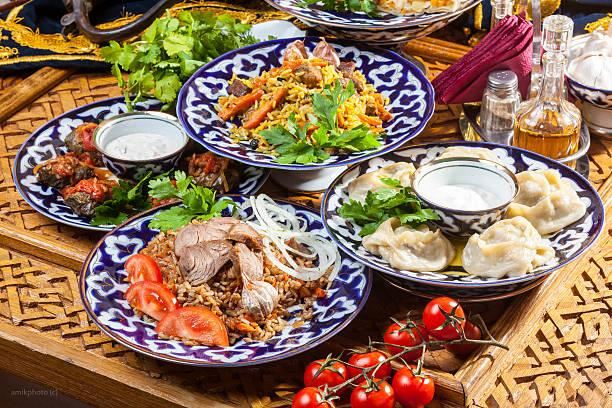Braised Crucian Carp: (76, 193, 358, 366), (321, 142, 601, 300), (11, 94, 266, 230), (186, 41, 425, 163)
